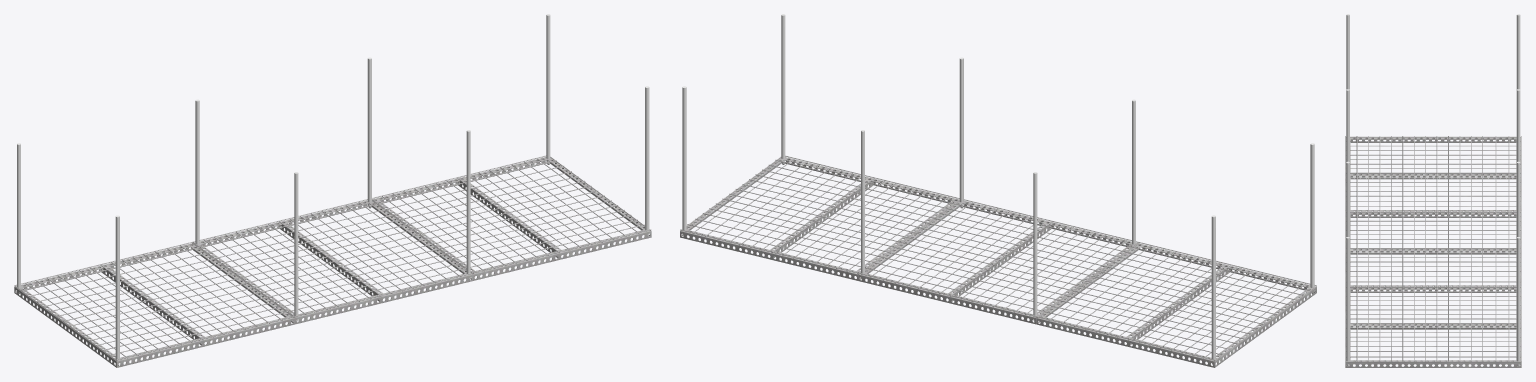
3 views of the same model, side by side, from view 1: azimuth 30°, elevation 25°; view 2: azimuth 150°, elevation 25°; view 3: azimuth 270°, elevation 25° (orthographic). The views are drawn at different scales.
Parts seen in each view (by area): view 1: Grill003, Rods003; view 2: Grill003, Rods003; view 3: Grill003, Rods003.
Boxes of the visible parts, <box> form: Grill003: <box>14,155,651,367</box>; Rods003: <box>17,14,649,365</box>; Grill003: <box>680,155,1316,367</box>; Rods003: <box>682,14,1314,365</box>; Grill003: <box>1345,136,1521,367</box>; Rods003: <box>1346,14,1520,366</box>.
Bounding box in the file's own units: 93.35 × 24.99 × 30.94.
Materials: 2 (2 with a texture image).
